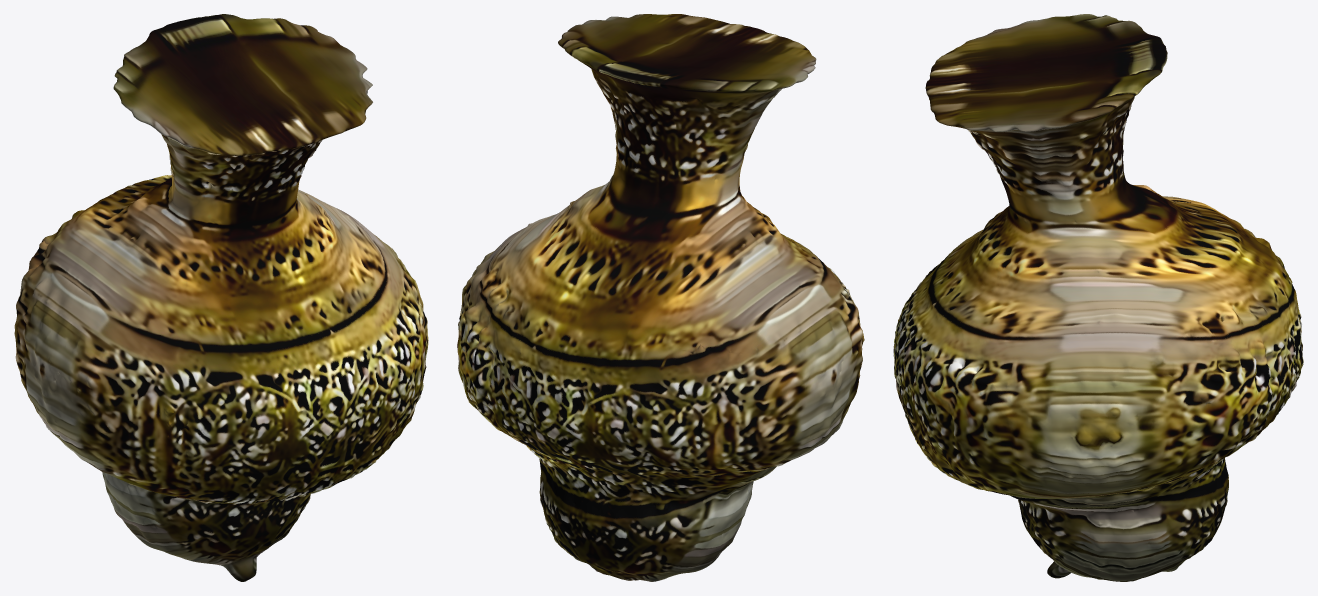
Rendered from kfl-2285.glb.
3 renders of one model, left to right at view 1: azimuth 30°, elevation 25°; view 2: azimuth 150°, elevation 25°; view 3: azimuth 270°, elevation 25°, orthographic.
Visible parts, largest first — view 1: kfl-2285; view 2: kfl-2285; view 3: kfl-2285.
Boxes of the visible parts, left/top/right/bottom form: kfl-2285: left=14, top=14, right=428, bottom=581; kfl-2285: left=457, top=14, right=864, bottom=581; kfl-2285: left=893, top=14, right=1303, bottom=581.
Size of the model in its own units: 0.7137 by 0.9936 by 0.7082.
1 material, 1 textured.
